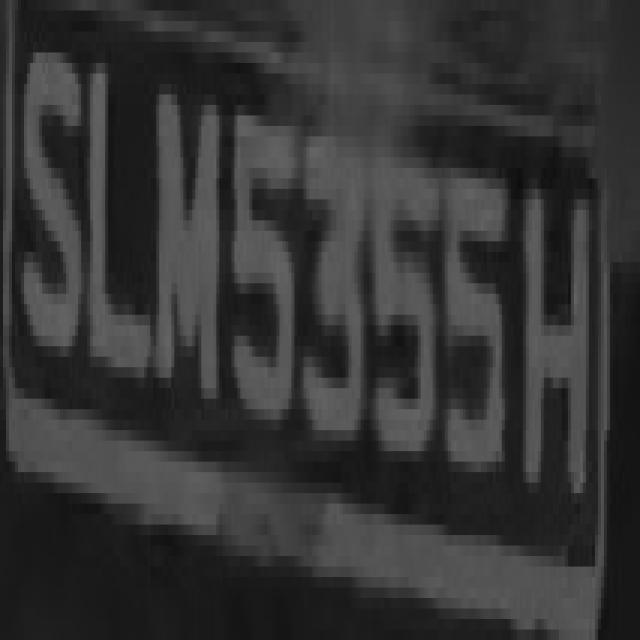3: (292, 95, 369, 482)
5: (438, 116, 514, 566), (372, 74, 442, 504), (225, 63, 298, 441)
H: (508, 126, 601, 566)
L: (93, 42, 153, 430)
M: (150, 52, 222, 462)
S: (18, 0, 90, 388)
